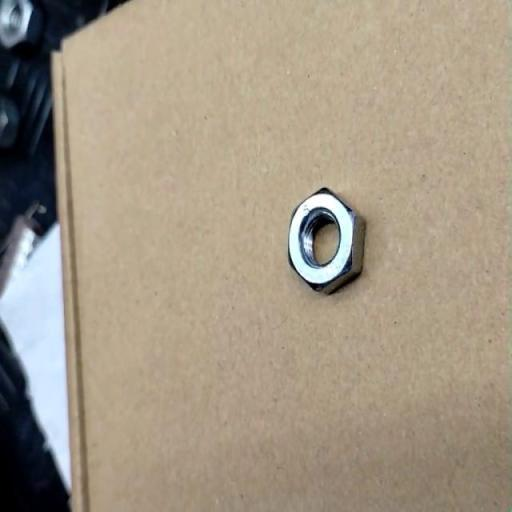Nut: (287, 186, 367, 296)
